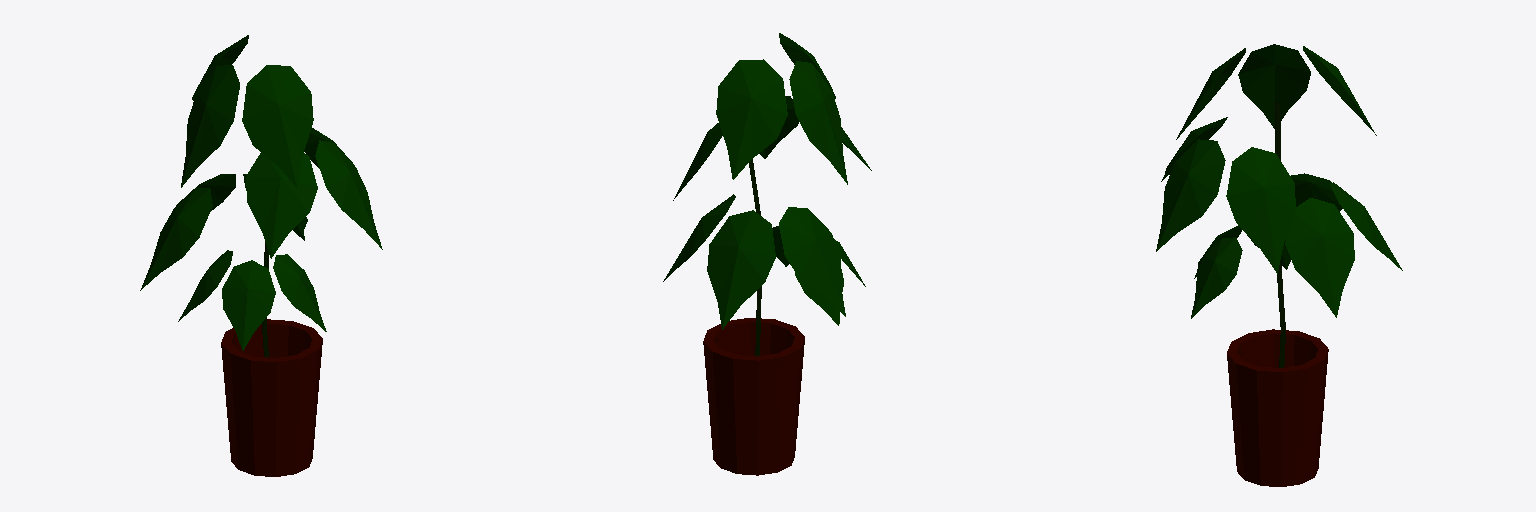
The model's file is caymini4.obj.
The picture shows the model from 3 angles: view 1: azimuth 30°, elevation 25°; view 2: azimuth 150°, elevation 25°; view 3: azimuth 270°, elevation 25°; orthographic projection.
Visible parts, largest first — view 1: obj1, obj2; view 2: obj1, obj2, obj3; view 3: obj1, obj2, obj3.
Boxes of the visible parts, x1,y1,x2,y2 form: obj1: [140, 35, 382, 350]; obj2: [221, 319, 322, 476]; obj1: [663, 33, 871, 329]; obj2: [703, 318, 804, 475]; obj3: [749, 159, 761, 355]; obj1: [1156, 44, 1402, 318]; obj2: [1227, 329, 1328, 486]; obj3: [1275, 102, 1285, 367].
Size of the model in its own units: 19.52 by 39.79 by 21.64.